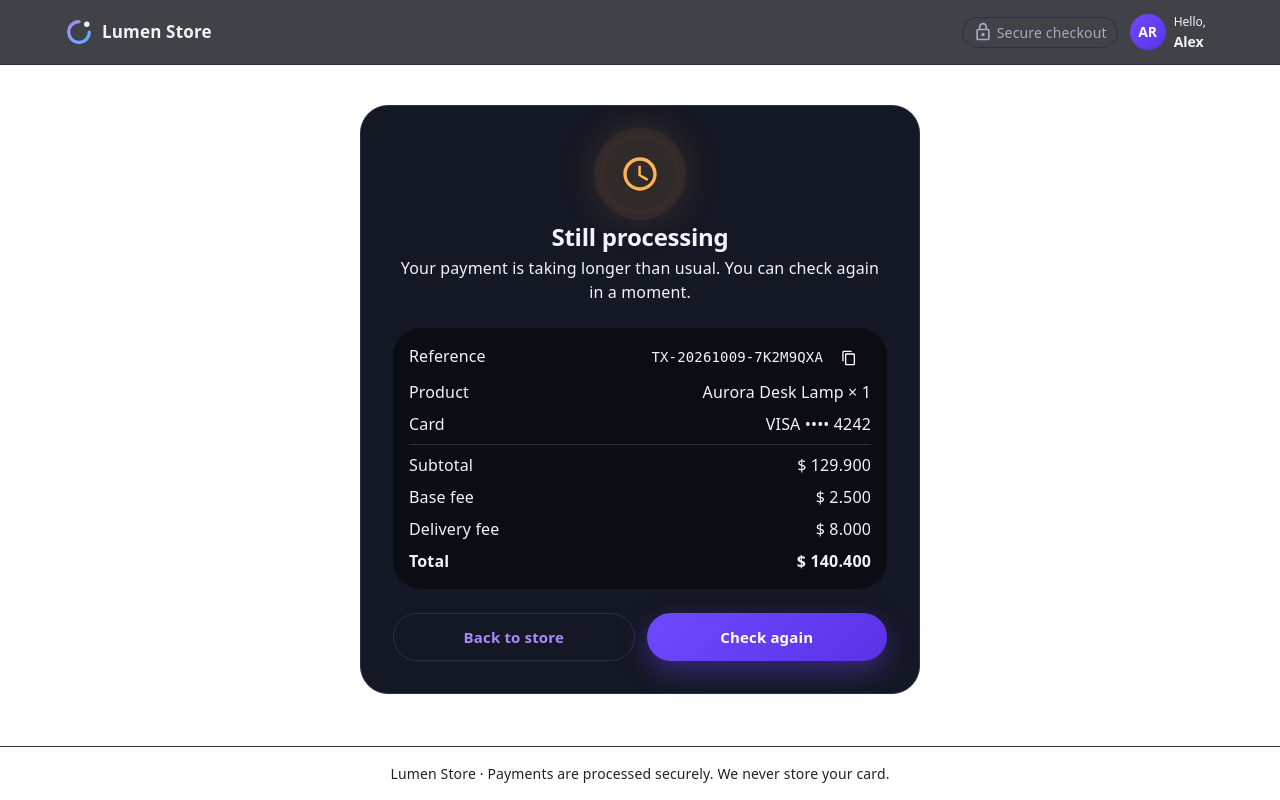
Test: TransactionStatusPage › AC-6: still pending after 30 attempts offers "Check again", which polls again
Expected: the heading "Still processing" is shown, [551, 220, 728, 253]
Click the button "Check again" at [767, 637], box [647, 613, 887, 661]
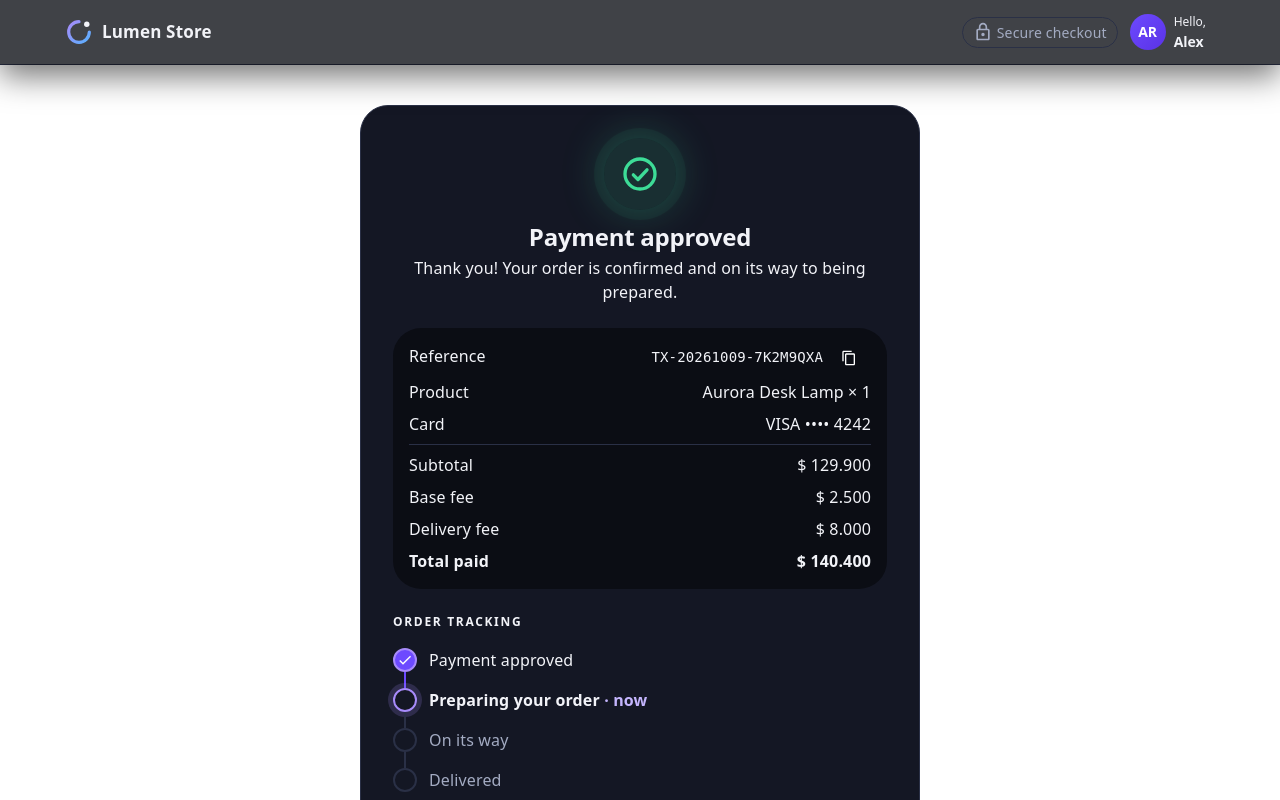
Expected: the heading "Payment approved" is shown, [529, 220, 751, 253]
